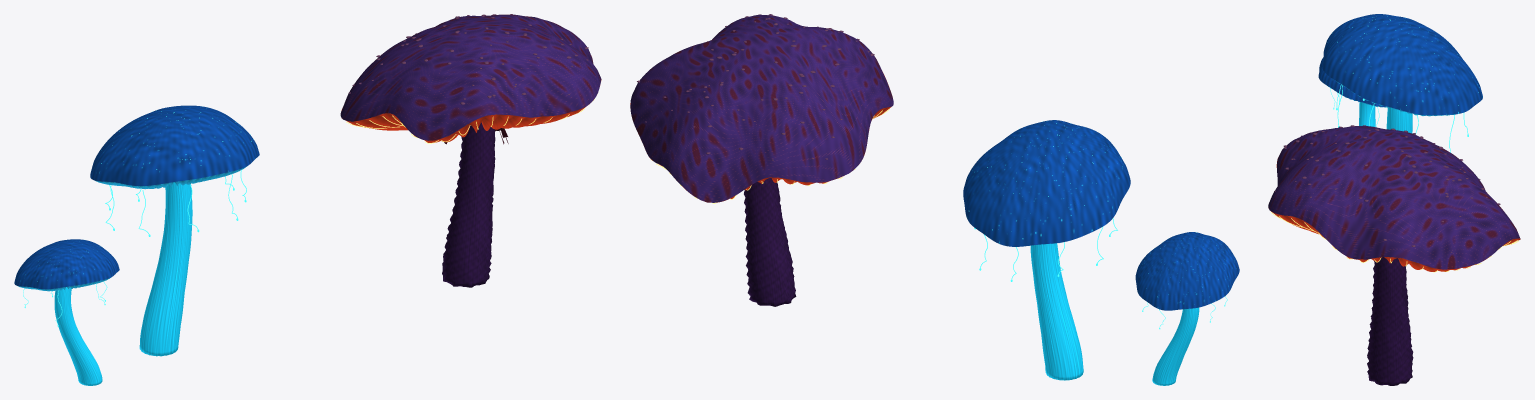
The model's file is magical_mushrooms.glb.
The picture shows the model from 3 angles, left to right: view 1: azimuth 30°, elevation 25°; view 2: azimuth 150°, elevation 25°; view 3: azimuth 270°, elevation 25°; orthographic projection. The views are drawn at different scales.
Parts seen in each view (by area): view 1: Violet_Lantern, Cyan_Tall, Cyan_Young; view 2: Violet_Lantern, Cyan_Tall, Cyan_Young; view 3: Violet_Lantern, Cyan_Tall, Cyan_Young.
Boxes of the visible parts, bbox=[...] form: Violet_Lantern: bbox=[340, 14, 601, 287]; Cyan_Tall: bbox=[90, 105, 259, 356]; Cyan_Young: bbox=[14, 239, 119, 385]; Violet_Lantern: bbox=[630, 14, 893, 306]; Cyan_Tall: bbox=[963, 120, 1130, 380]; Cyan_Young: bbox=[1135, 232, 1239, 385]; Violet_Lantern: bbox=[1268, 125, 1520, 385]; Cyan_Tall: bbox=[1322, 14, 1482, 152]; Cyan_Young: bbox=[1318, 57, 1385, 126].
Bounding box in the file's own units: 0.7597 × 0.3192 × 0.3005.
10 materials, 7 textured.
